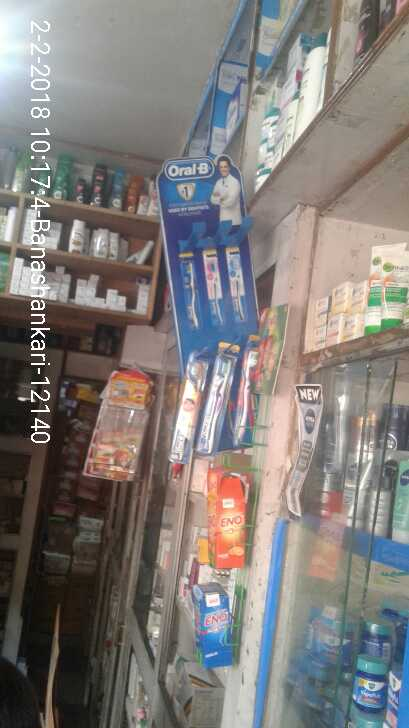oralb: (161, 341, 281, 463)
